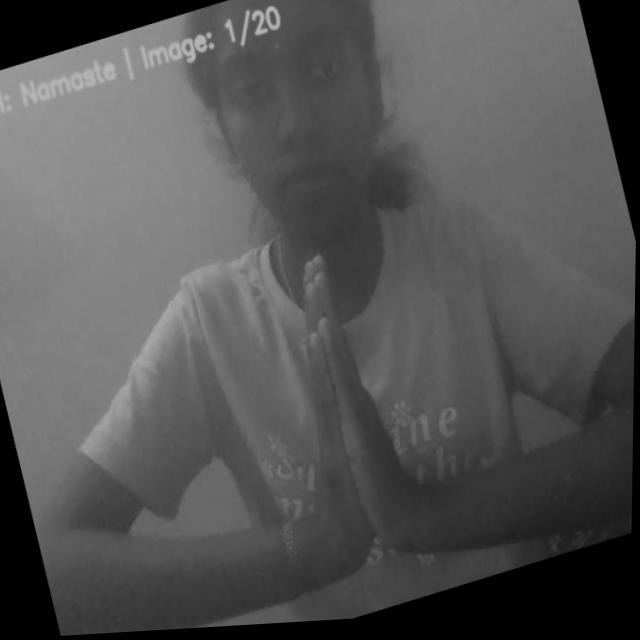Namaste: (231, 232, 467, 604)
